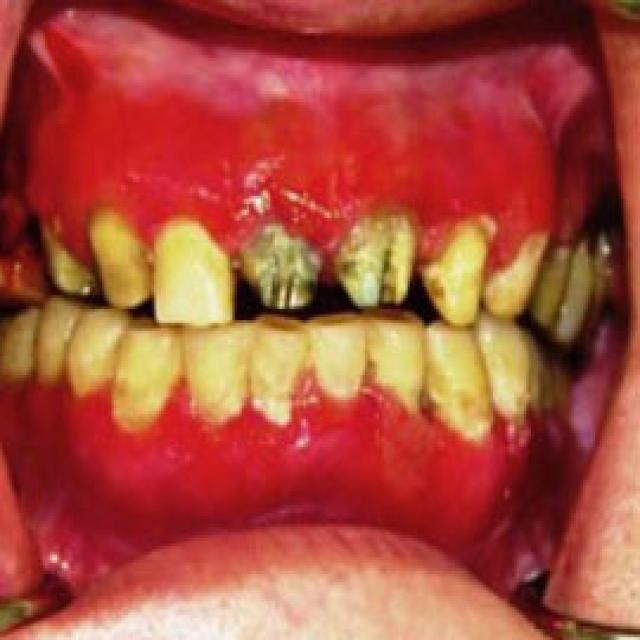caries: (335, 234, 416, 313), (243, 239, 315, 317)
